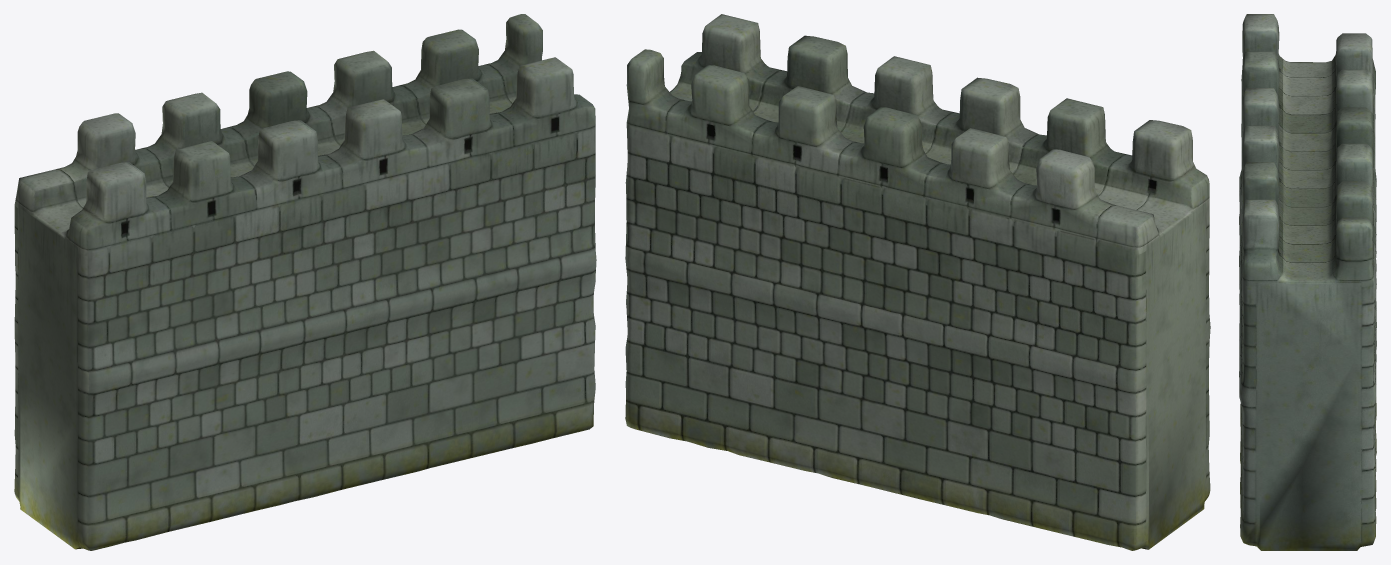
File: city-wall_hd.glb
The picture shows the model from 3 angles, left to right: view 1: azimuth 30°, elevation 25°; view 2: azimuth 150°, elevation 25°; view 3: azimuth 270°, elevation 25°; orthographic projection. The views are drawn at different scales.
Parts seen in each view (by area): view 1: city_wall_lod0; view 2: city_wall_lod0; view 3: city_wall_lod0.
Boxes of the visible parts, bbox=[...] form: city_wall_lod0: bbox=[14, 14, 596, 550]; city_wall_lod0: bbox=[625, 14, 1210, 550]; city_wall_lod0: bbox=[1239, 14, 1376, 550].
Bounding box in the file's own units: 6 × 4.1 × 1.58.
Materials: 1 (1 with a texture image).
